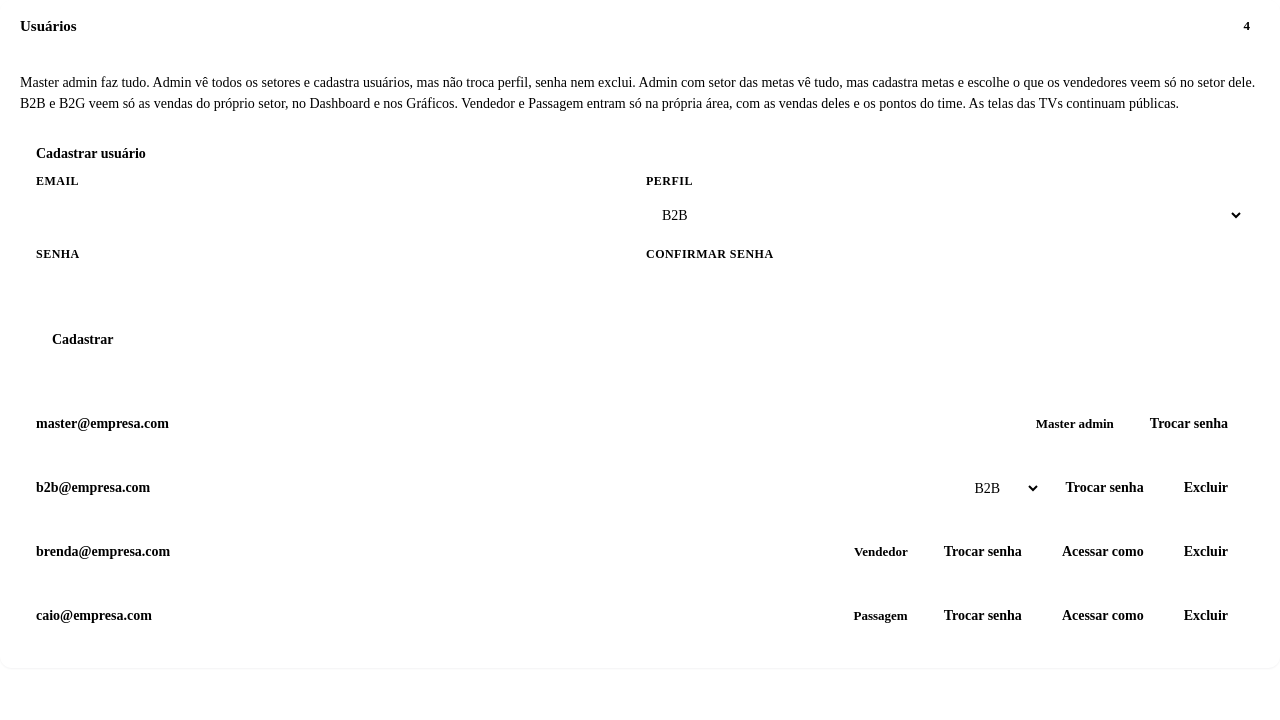
Test case: UsersWidget: acessar como › mostra a mensagem do backend quando não consegue entrar
Click the button with aria-label "Acessar como brenda@empresa.com" at x=1103, y=552, box [1046, 532, 1160, 572]
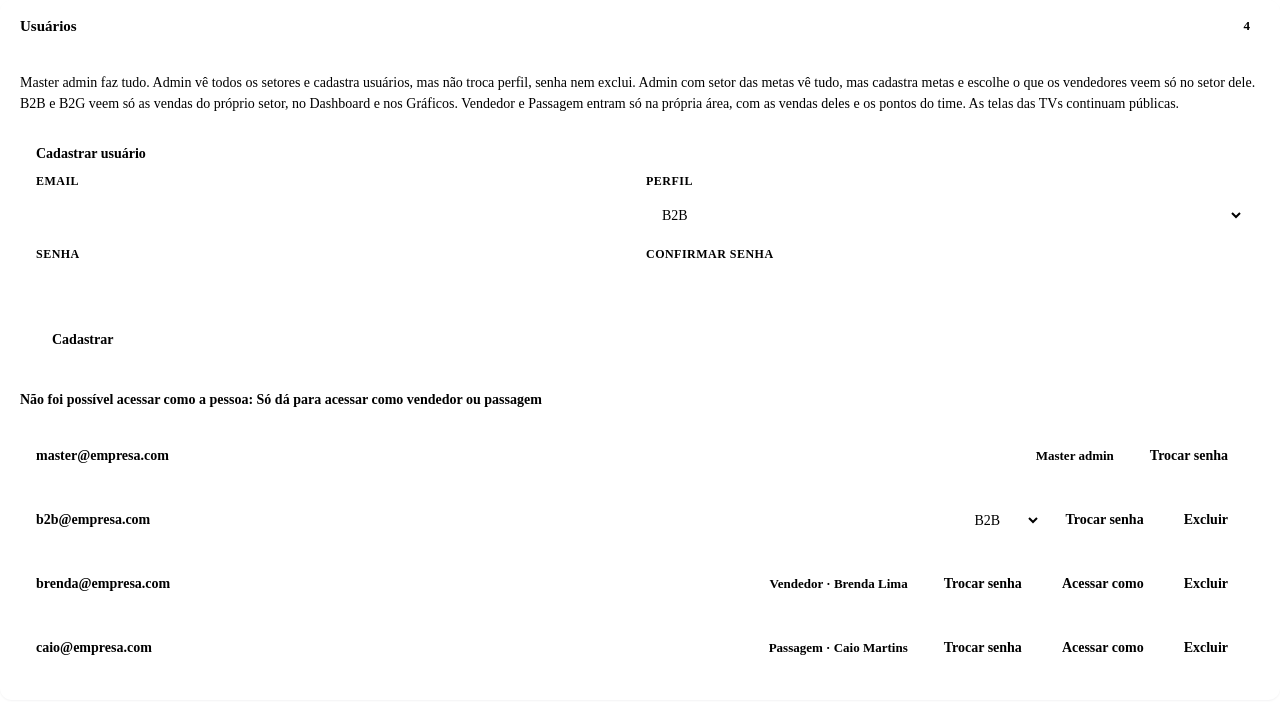
Result: the text "Não foi possível acessar como a pessoa: Só dá para acessar como vendedor ou passagem" is shown at [20, 392, 542, 407]
